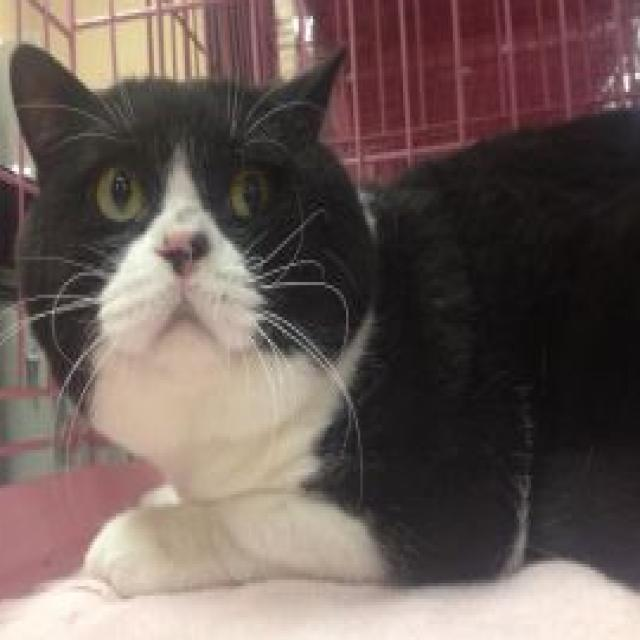British Shorthair: (4, 35, 640, 602)
